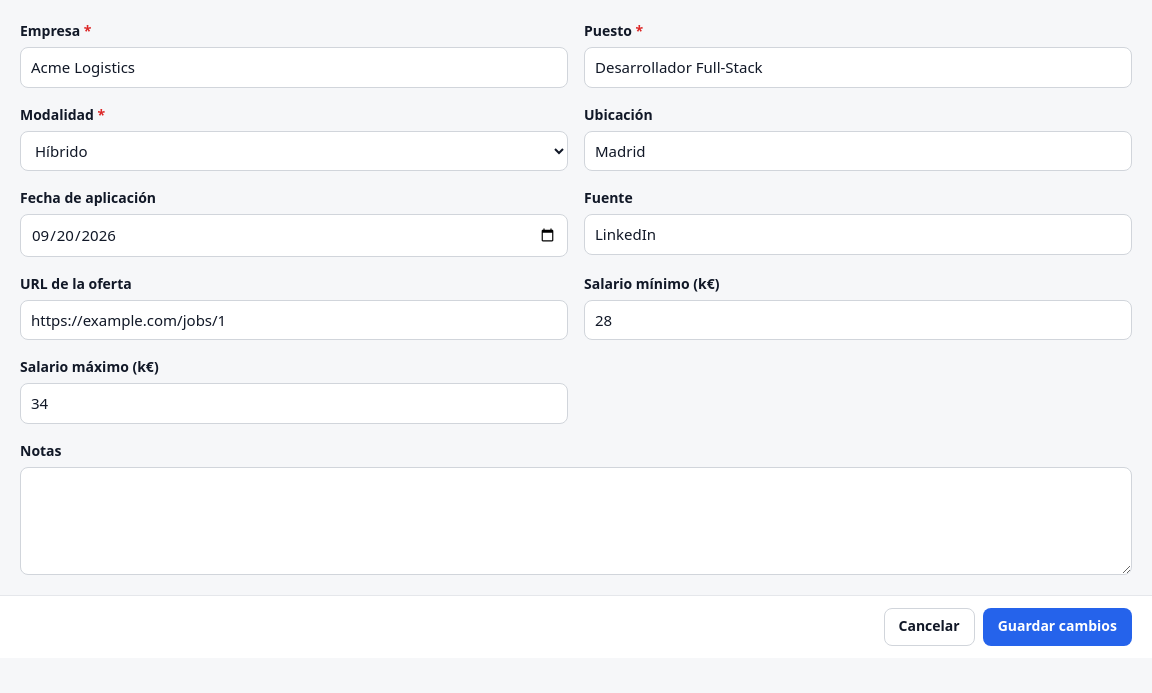
Test: ApplicationForm › shows the field errors returned by the server
This screenshot has width=1152, height=693.
Click the button "Guardar cambios": (1057, 626) [983,608,1132,646]
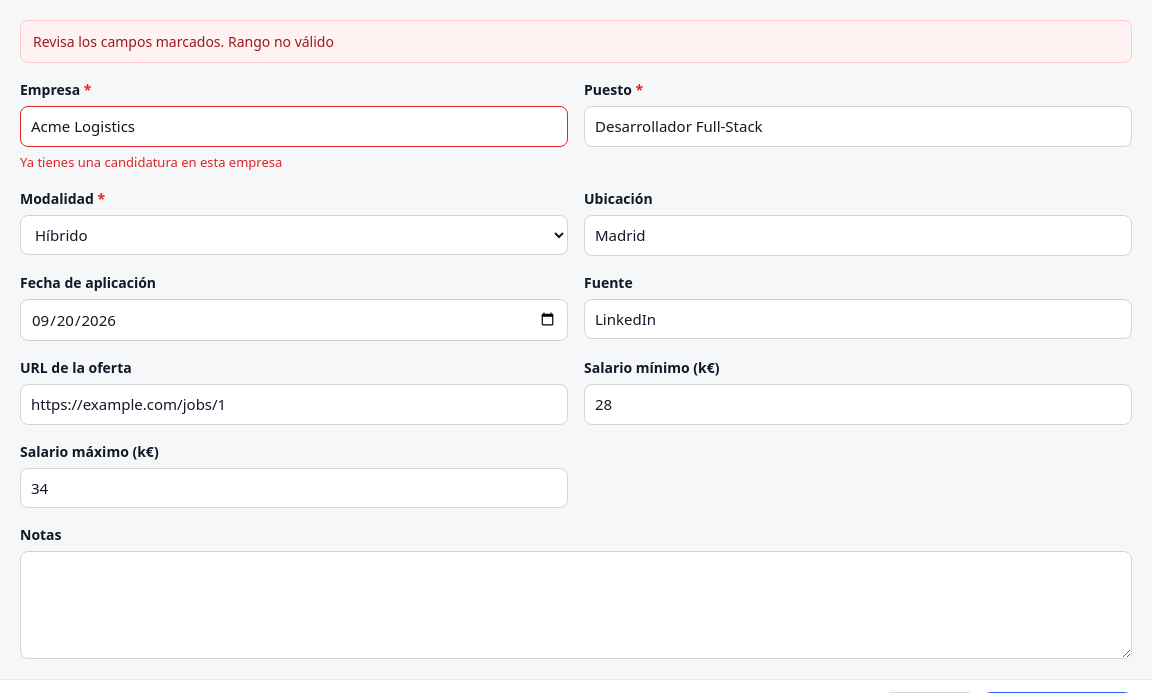
Now the message reads "Revisa los campos marcados. Rango no válido", box [33,32,334,51]
